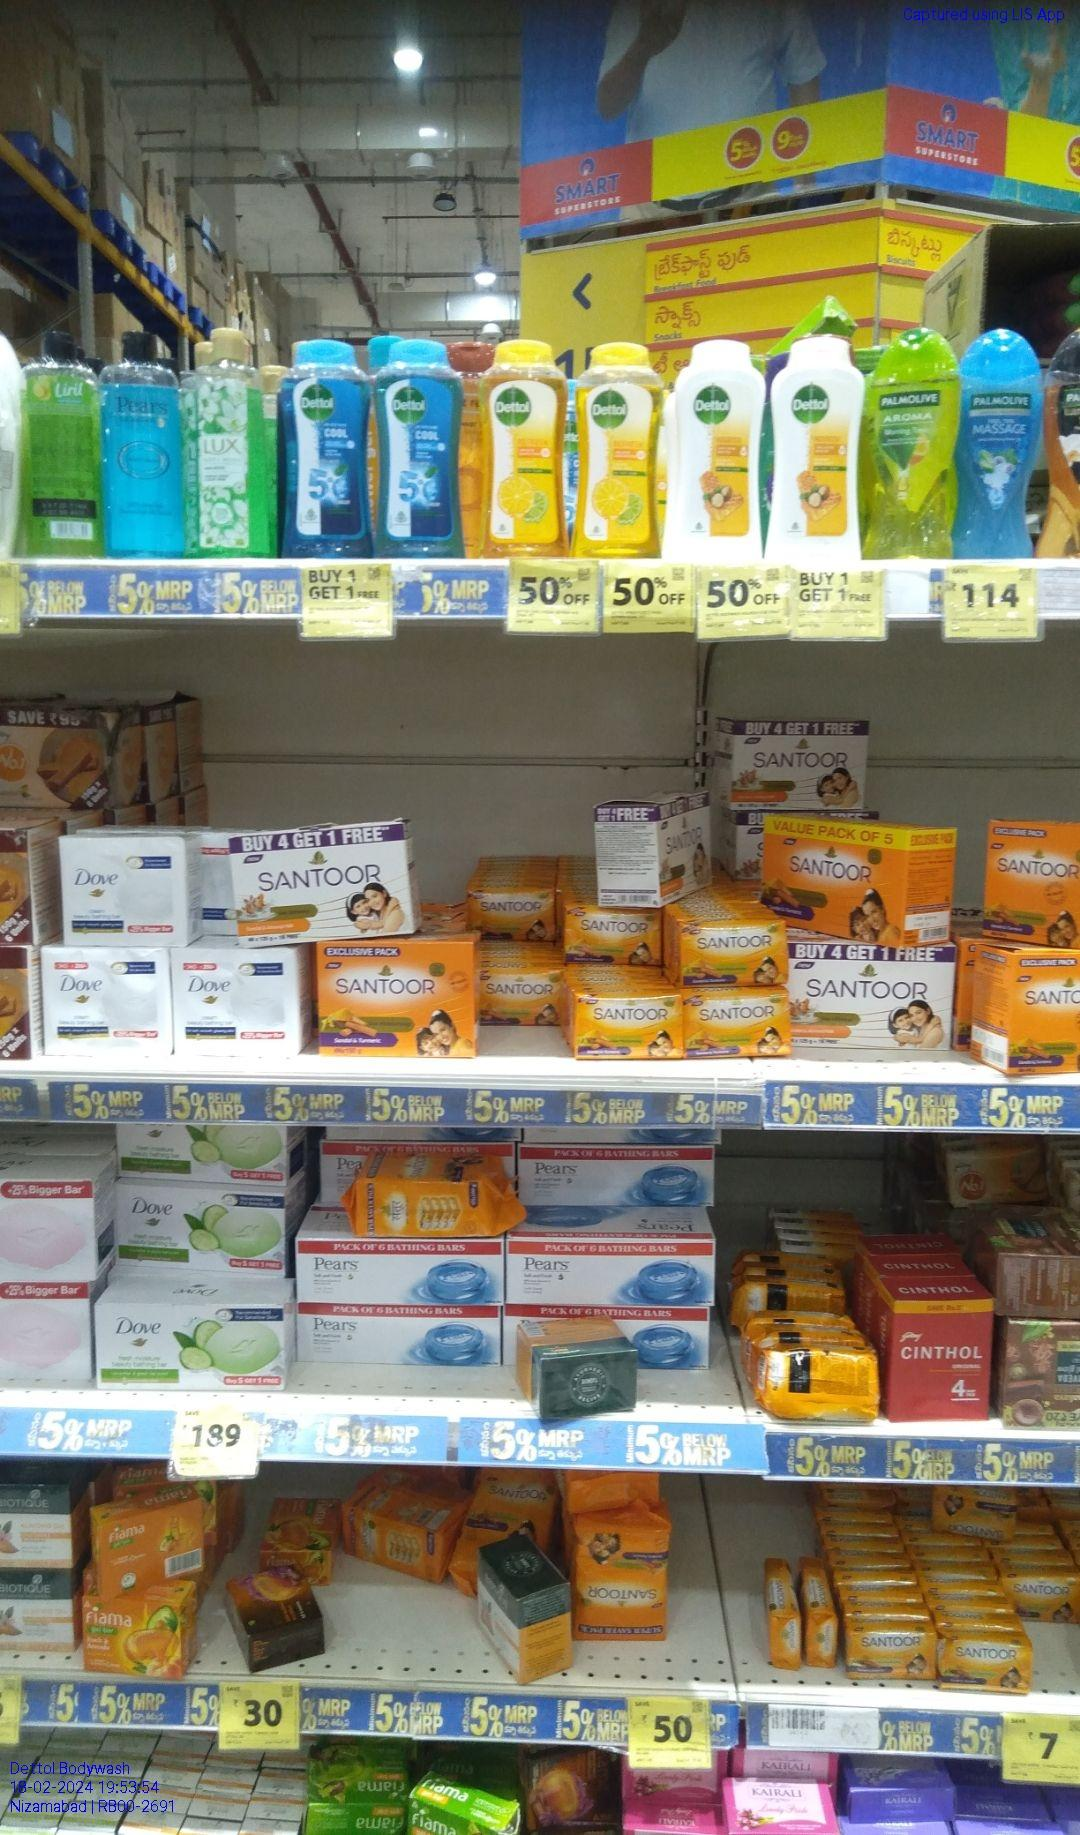Dettol_Bodywash_Cool: (282, 338, 374, 556), (379, 342, 460, 559)
Dettol_Bodywash_Refresh: (477, 337, 572, 556), (570, 339, 657, 558)
Lux_Body_Wash_Skin_Detox_Freesia_Scent_and_Alove_Vera_245ML: (194, 328, 275, 555)
Palmolive_Aroma_Moments_Feel_The_Massage_Shower_Gel_250ML: (954, 326, 1035, 559)
Palmolive_Aroma_Morning_Tonic_Shower_Gel_250ML: (860, 326, 950, 560)
Pears_Pure_Glycerin_and_Mint_Extracts_Body_Wash_250ML: (102, 328, 184, 559)
